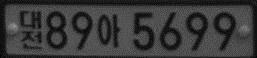5: (132, 12, 155, 51)
6: (159, 12, 182, 51)
8: (45, 10, 67, 49)
9: (212, 10, 237, 50), (184, 11, 208, 51), (70, 10, 94, 49)
대전_V: (19, 9, 43, 51)
아: (97, 13, 121, 48)
